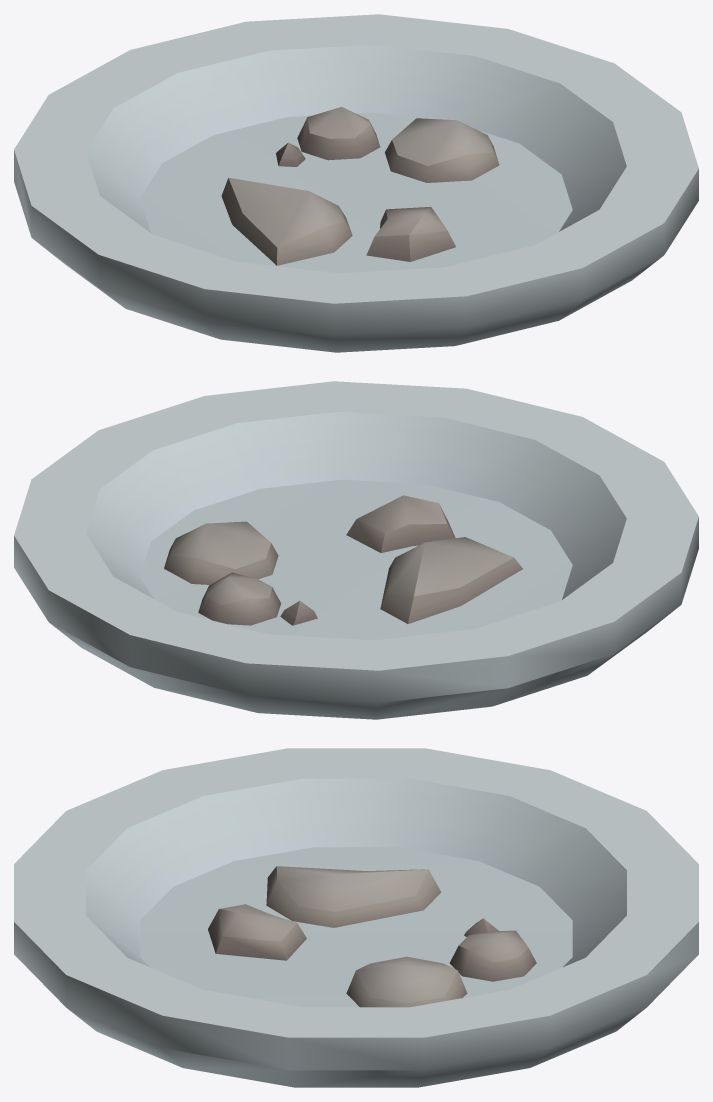
File: kaykit-restaurant-bits-plate-dirty.glb
The picture shows the model from 3 angles, top to bottom: view 1: azimuth 30°, elevation 25°; view 2: azimuth 150°, elevation 25°; view 3: azimuth 270°, elevation 25°; orthographic projection.
Visible parts, largest first — view 1: plate_dirty; view 2: plate_dirty; view 3: plate_dirty.
Part boxes in pixels (<box>): plate_dirty: <box>14,14,698,352</box>; plate_dirty: <box>14,381,698,719</box>; plate_dirty: <box>14,748,698,1087</box>.
Size of the model in its own units: 0.95 by 0.1 by 0.95.
Materials: 1 (1 with a texture image).
